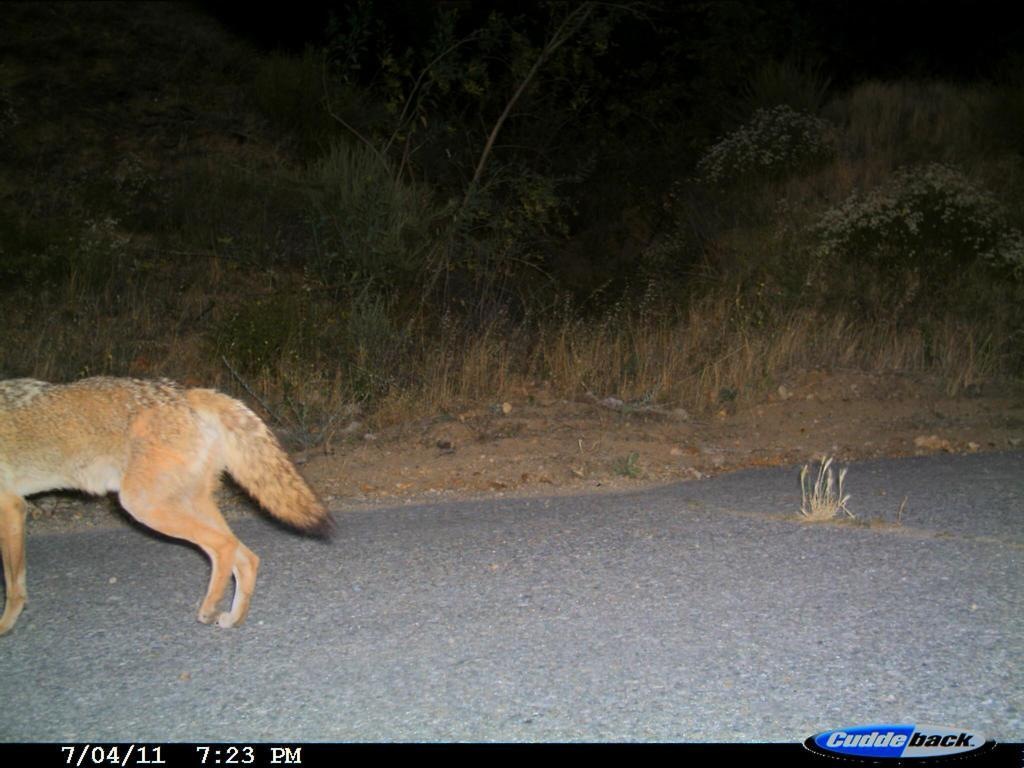coyote: (2, 376, 338, 635)
